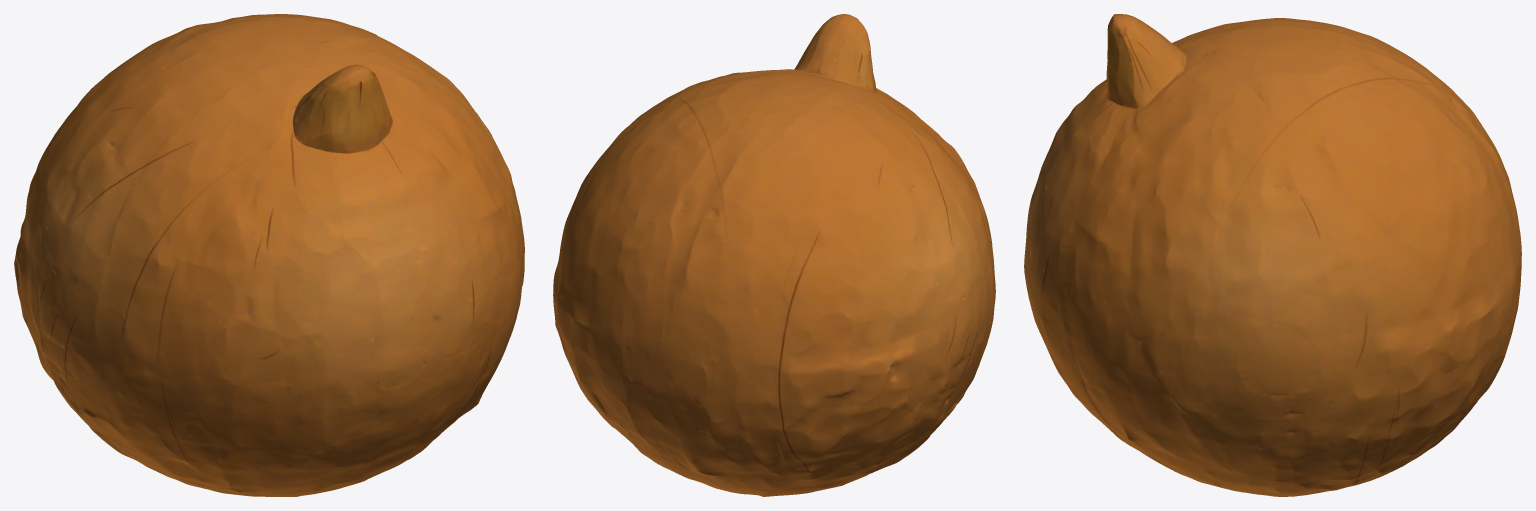
Rendered from coconut.glb.
3 renders of one model, left to right at view 1: azimuth 30°, elevation 25°; view 2: azimuth 150°, elevation 25°; view 3: azimuth 270°, elevation 25°, orthographic. The views are drawn at different scales.
Size of the model in its own units: 1.91 by 1.94 by 1.92.
Materials: 1 (1 with a texture image).
